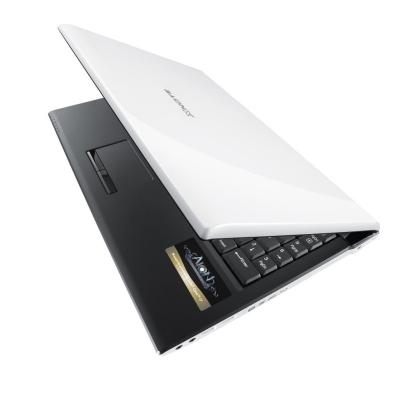board: (46, 24, 376, 357)
